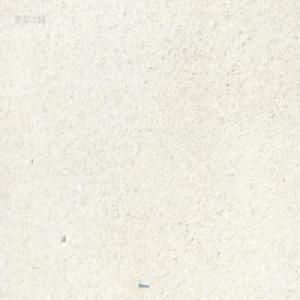Nail: (138, 280, 149, 288)
